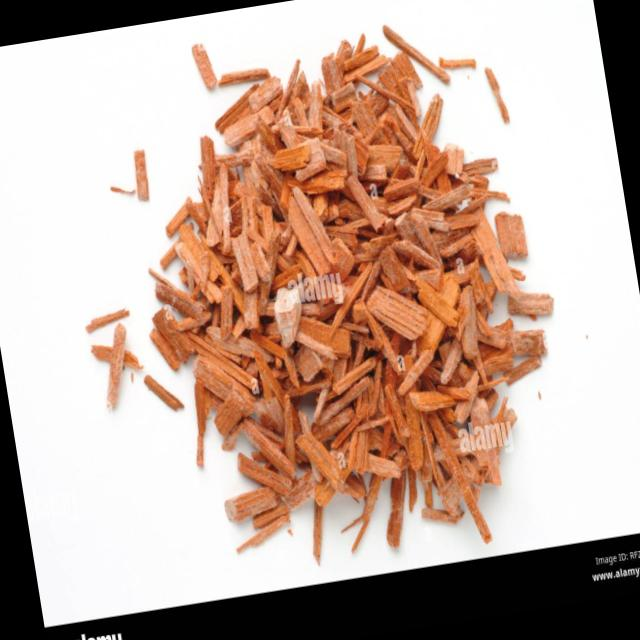Medicinal-Sandalwood: (39, 4, 592, 595)
